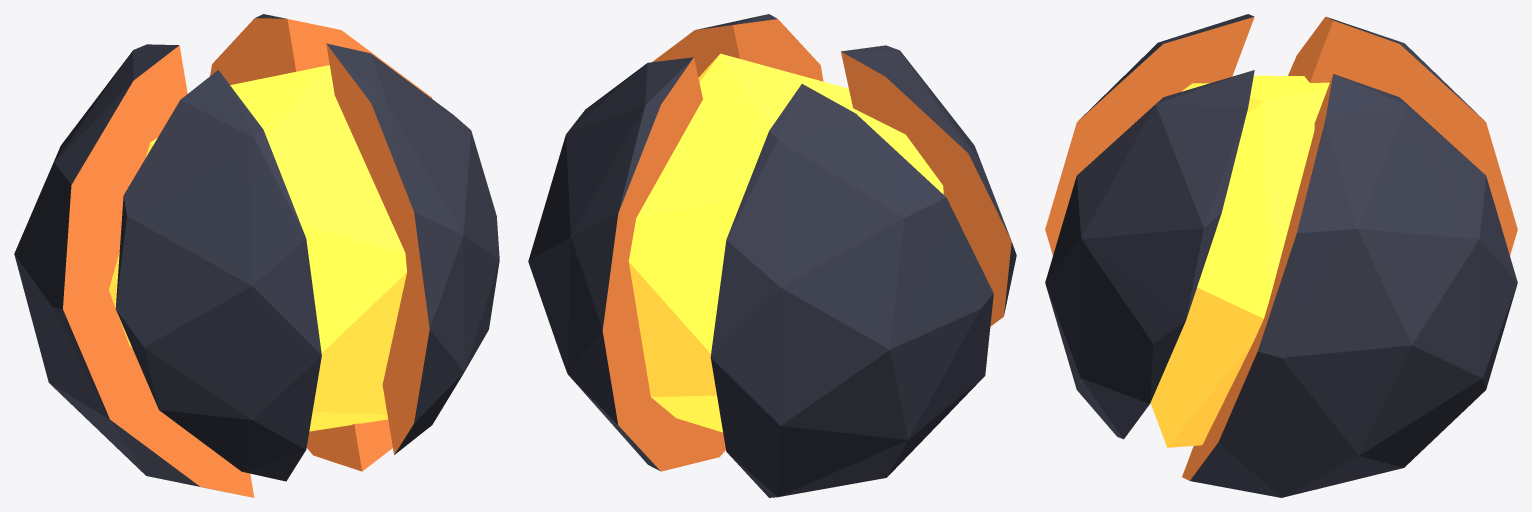
File: FX-PROJECTILE-Core.fbx
3 views of the same model, side by side, from view 1: azimuth 30°, elevation 25°; view 2: azimuth 150°, elevation 25°; view 3: azimuth 270°, elevation 25° (orthographic).
Visible parts, largest first — view 1: FX-PROJECTILE-Core; view 2: FX-PROJECTILE-Core; view 3: FX-PROJECTILE-Core.
Boxes of the visible parts, <box> form: FX-PROJECTILE-Core: <box>14,14,499,497</box>; FX-PROJECTILE-Core: <box>528,14,1016,497</box>; FX-PROJECTILE-Core: <box>1045,14,1517,497</box>.
Size of the model in its own units: 0.3859 by 0.3737 by 0.3749.
Materials: 1 (1 with a texture image).
